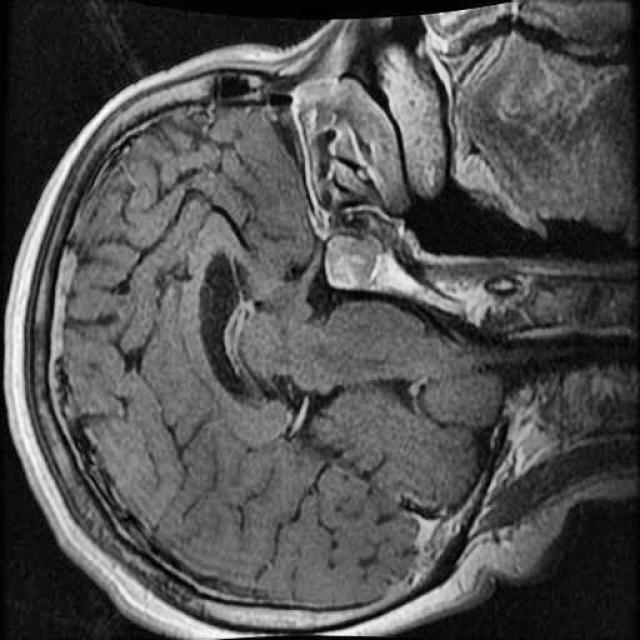Tumor: (291, 206, 440, 320)
